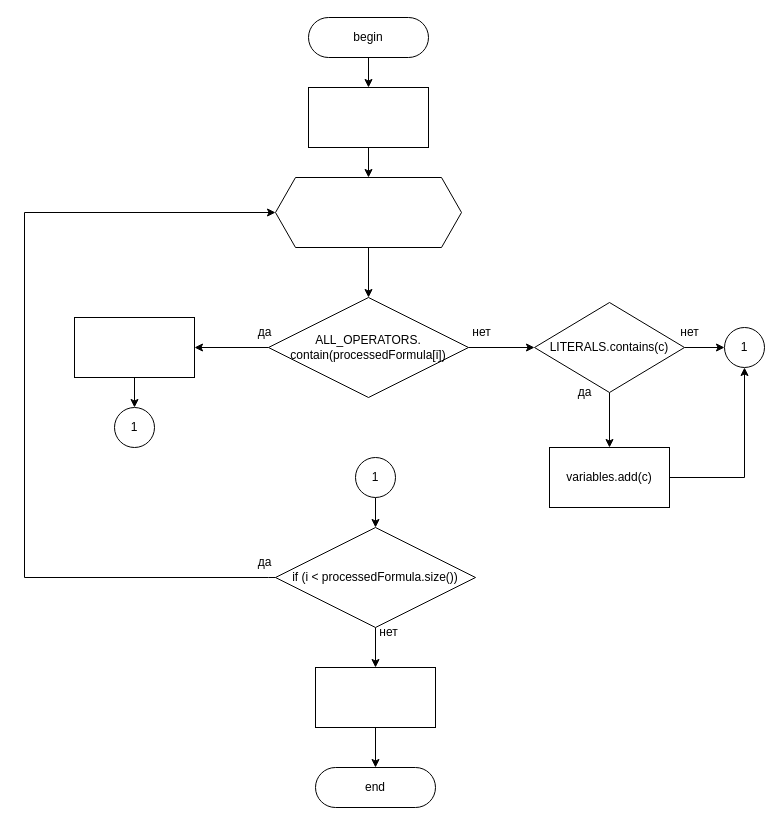
Image size: 782x825. Some labels were removed from this diagram. The shapes that lost their labels are listed below. From the top down, each one's centre as x and y in pixels, then its label:
[368,117]: operatorsCount = 0 variables.clear()
[368,212]: do (int i = 0,i++)
[134,347]: operatorsCount++
[375,697]: return operatorsCount + variables.size()
